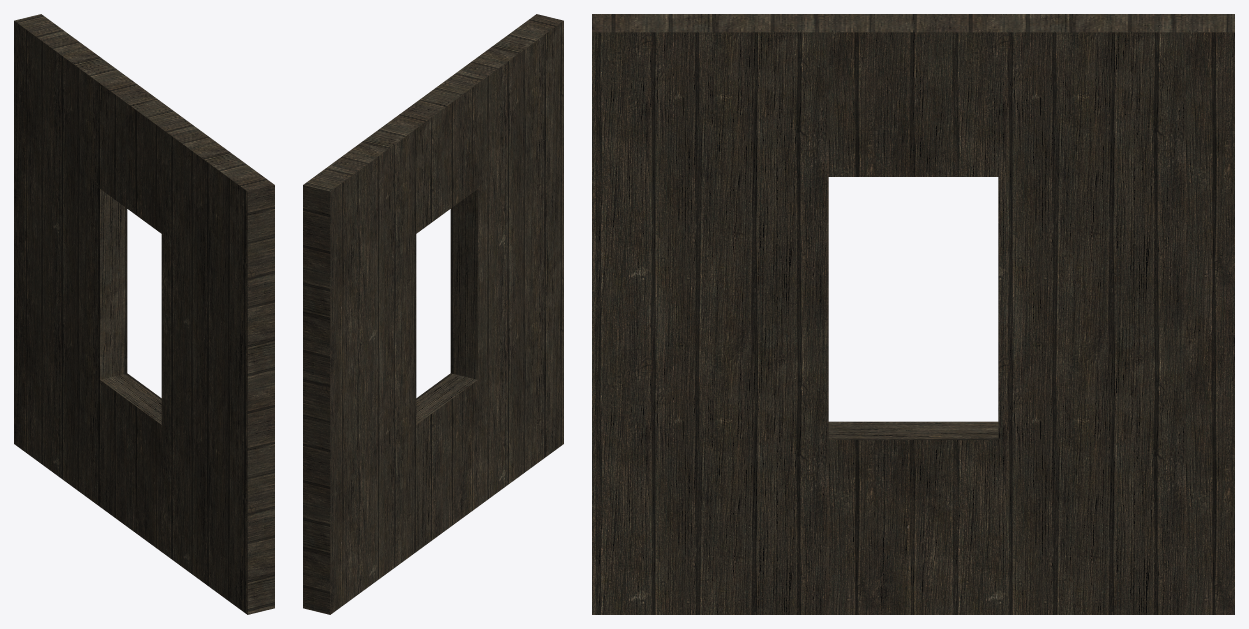
File: WoodenPlankWall(WindowHole).fbx
3 views of the same model, side by side, from view 1: azimuth 30°, elevation 25°; view 2: azimuth 150°, elevation 25°; view 3: azimuth 270°, elevation 25° (orthographic). The views are drawn at different scales.
Parts seen in each view (by area): view 1: Cube; view 2: Cube; view 3: Cube.
Boxes of the visible parts, x1,y1,x2,y2 form: Cube: (14,14,274,614); Cube: (303,14,563,614); Cube: (592,14,1234,614).
Size of the model in its own units: 20.19 by 300 by 300.
Materials: 1 (1 with a texture image).
